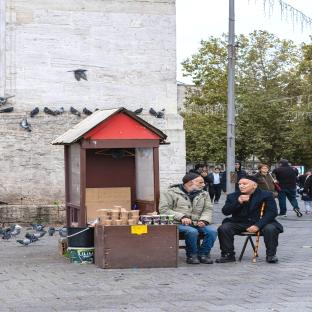Human: (216, 176, 283, 263), (159, 173, 218, 264)
